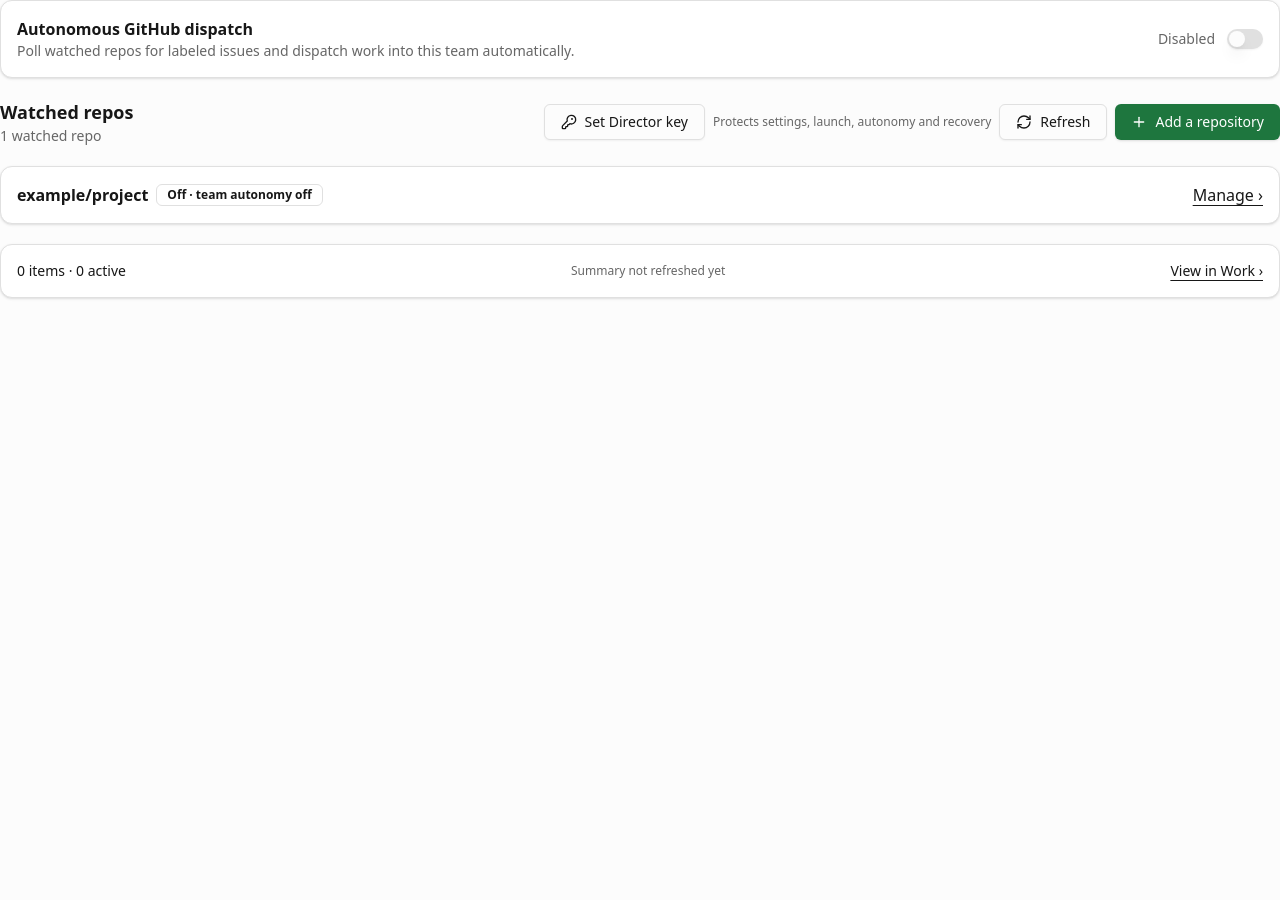
Scenario: AutonomyPanel › refuses enablement when the gate changes after confirmation
Click the switch named "Enable autonomous GitHub dispatch" at (1245, 39), box [1227,29,1263,49]
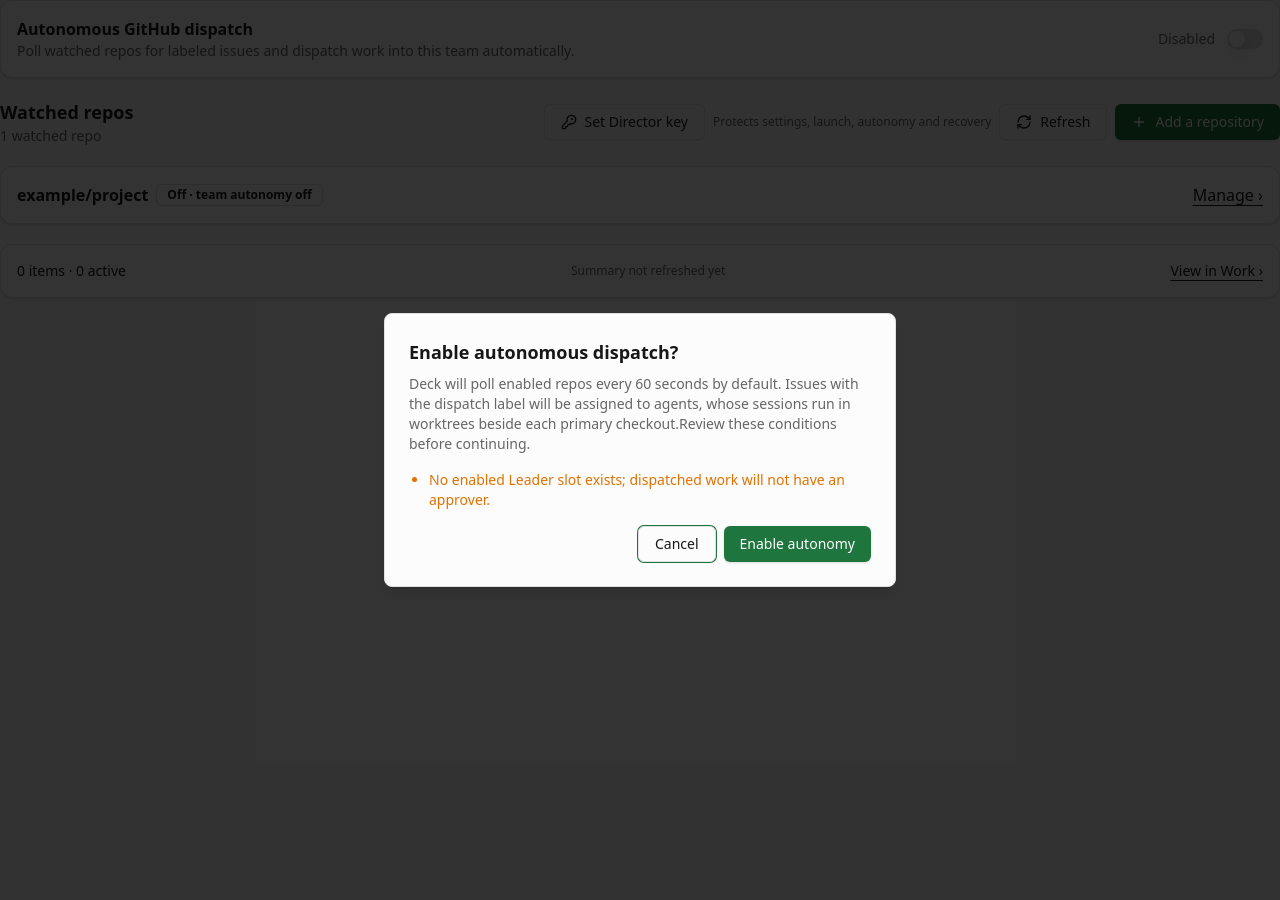
Click the button "Enable autonomy" at (797, 544), box [724,526,871,562]
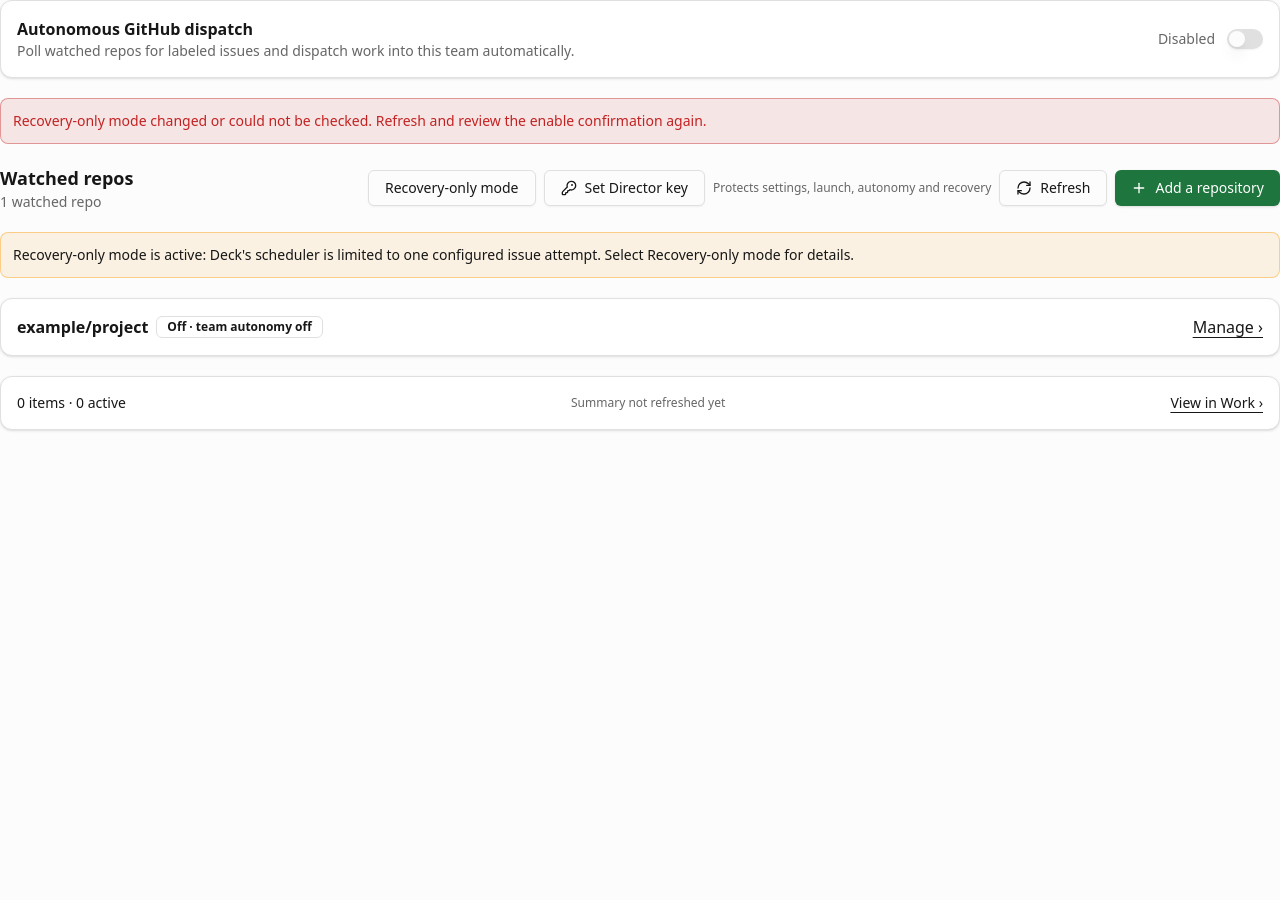
Expected: the text "Recovery-only mode changed or could not be checked" is shown, [13,111,707,130]
